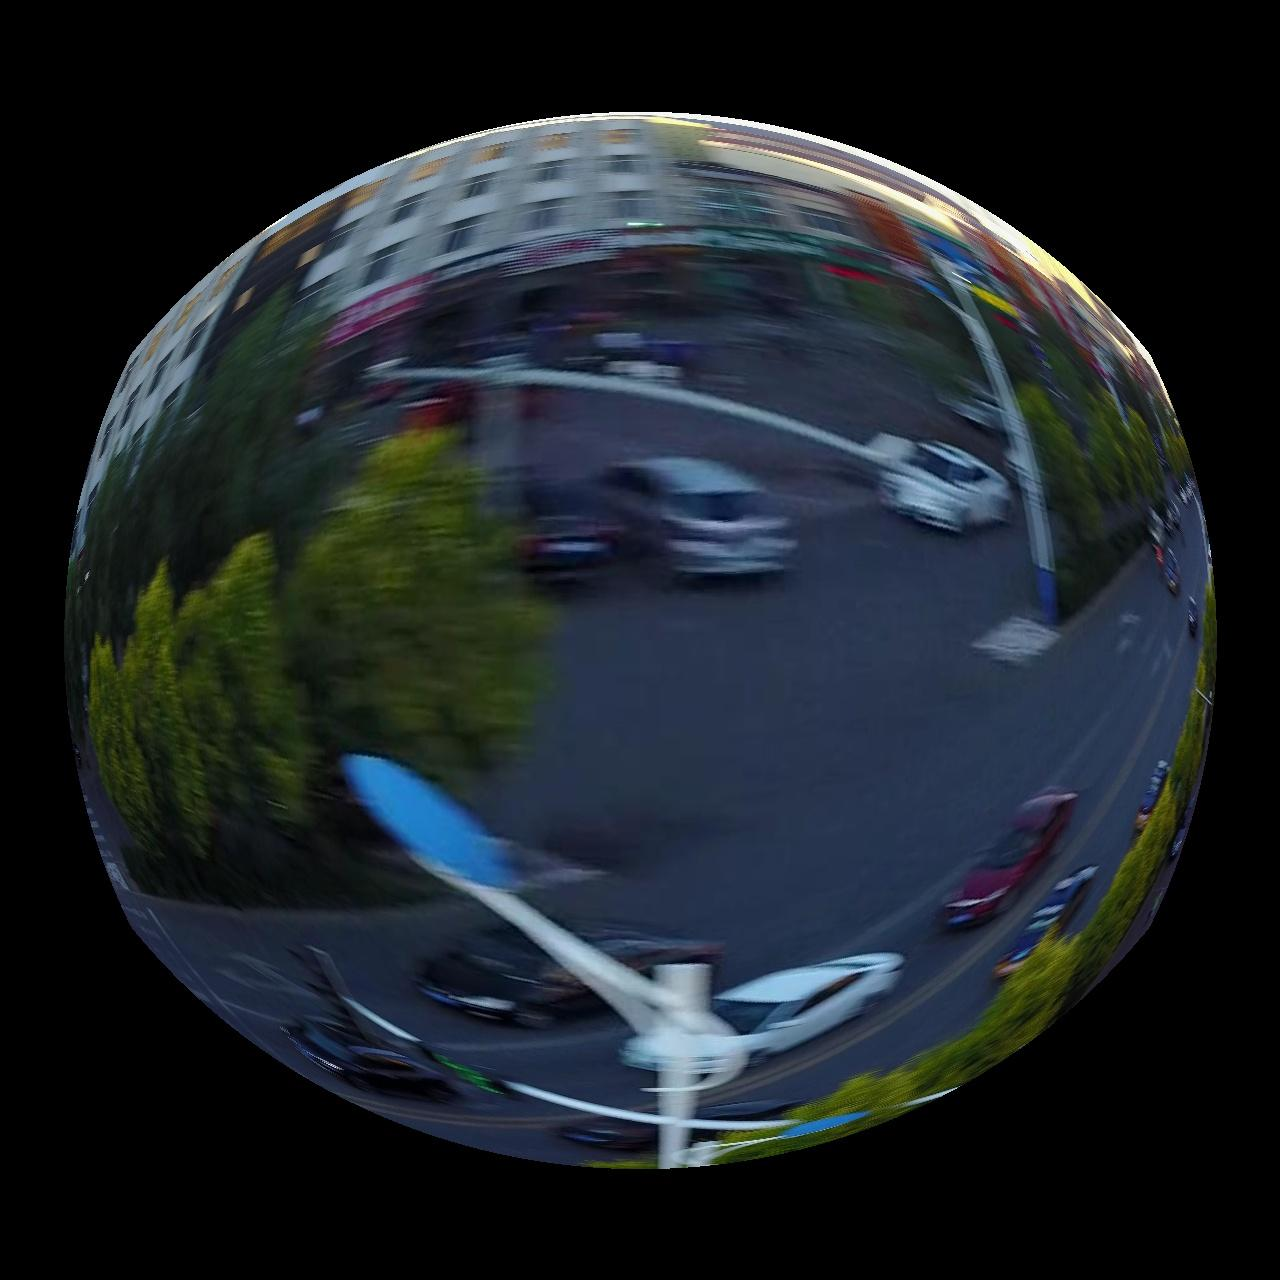cars: (602, 456, 799, 580), (712, 954, 906, 1065), (942, 787, 1080, 931), (414, 927, 605, 1029), (280, 1017, 458, 1104), (869, 433, 1014, 532), (995, 867, 1099, 980), (571, 924, 726, 976), (1136, 760, 1175, 837), (622, 1039, 660, 1070)
trees: (707, 585, 1218, 1160), (70, 239, 352, 635), (282, 428, 549, 779), (170, 532, 316, 831), (118, 561, 211, 859), (86, 636, 161, 857), (1019, 382, 1102, 573), (1088, 377, 1165, 509)
